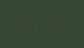eight: (24, 20, 30, 28)
four: (52, 20, 58, 28)
nine: (31, 20, 37, 28), (59, 20, 65, 28)
one: (45, 20, 51, 28)
seven: (38, 20, 44, 28)
zero: (17, 20, 23, 28)
